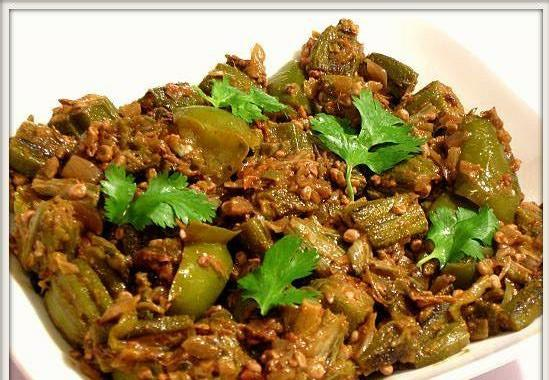BhindiMasala: (7, 19, 544, 380)
